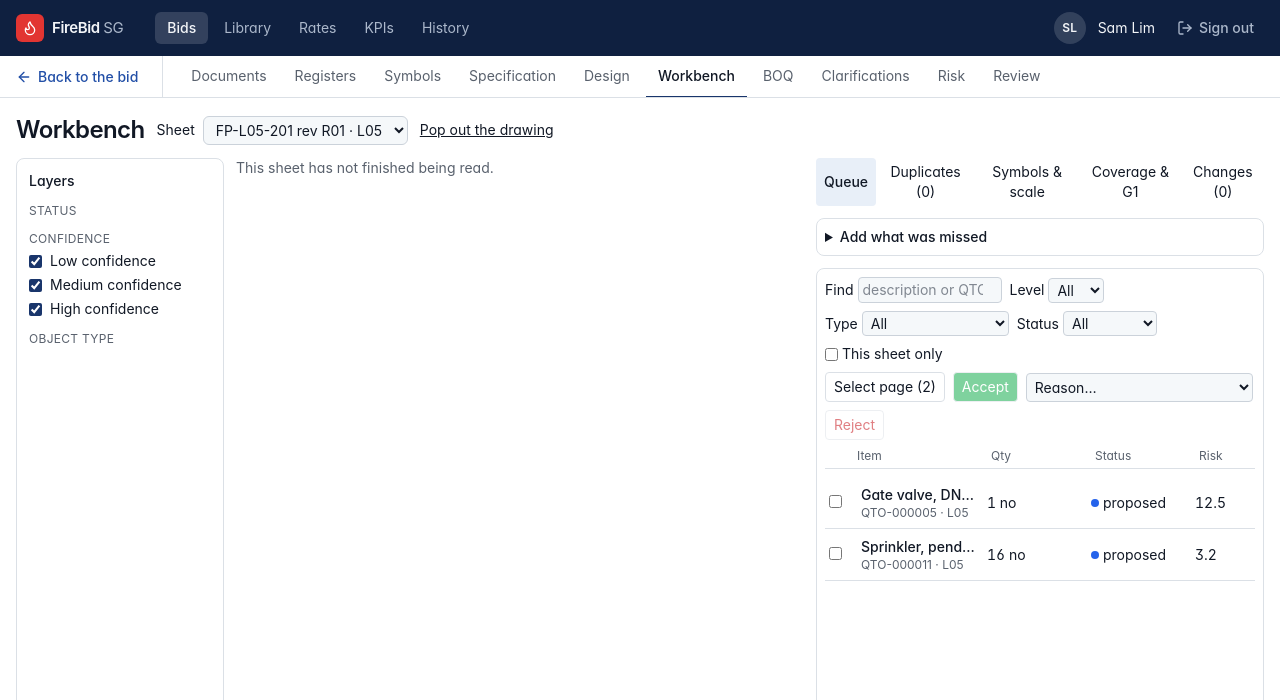
Test: the workbench › keeps G1 disabled and lists every blocker, with where to resolve it
Click the button "Coverage & G1".
click(1130, 182)  # box x1=1083 y1=158 x2=1178 y2=206
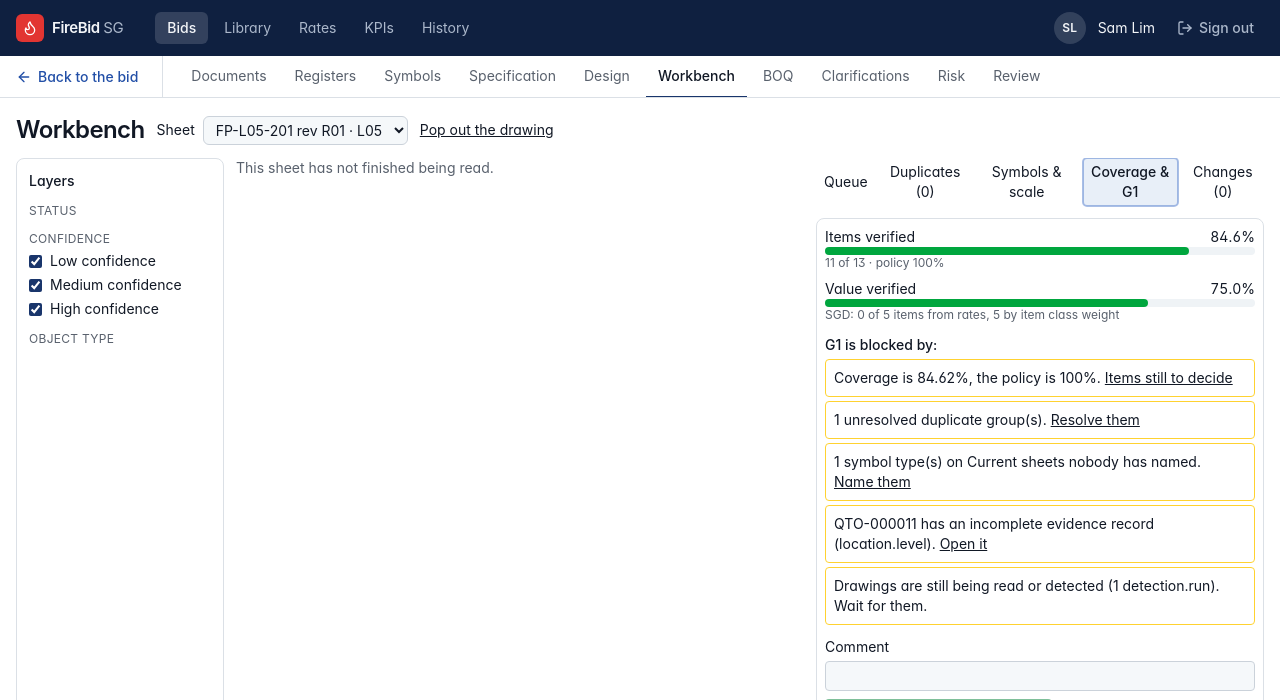
Click the button "Resolve them".
click(1095, 420)  # box x1=1051 y1=410 x2=1140 y2=430
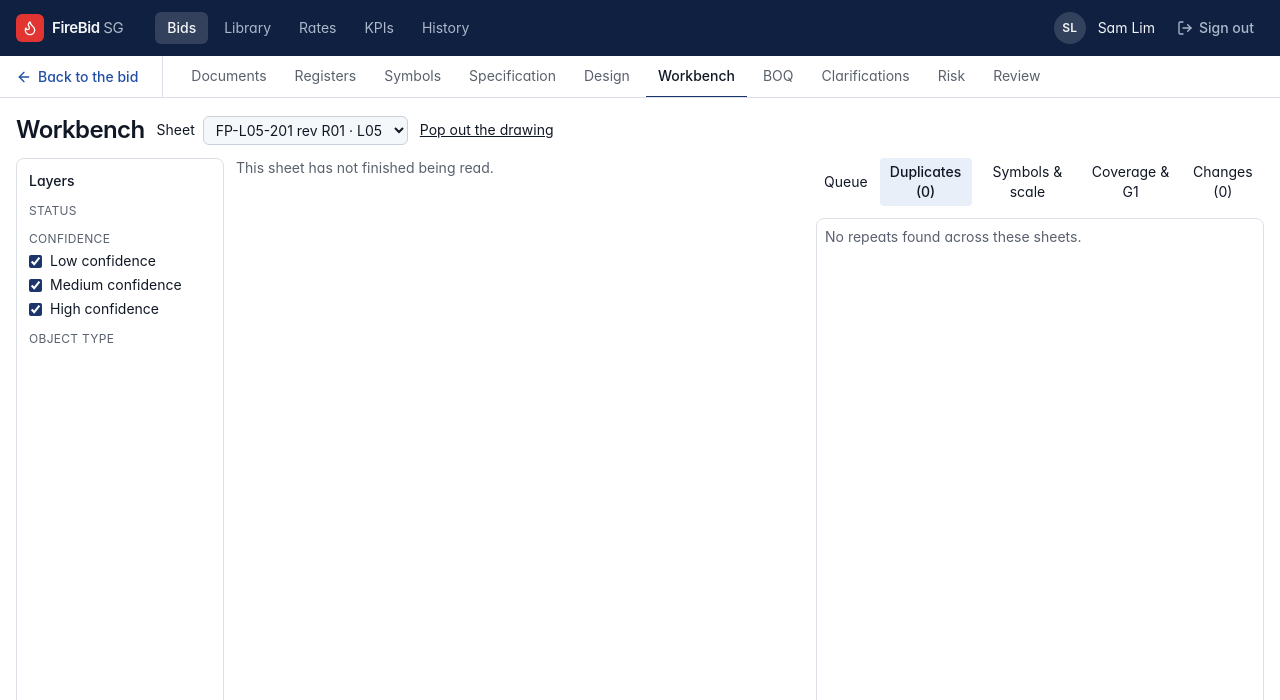
Check: the text "No repeats found across these sheets." is shown, box x1=825 y1=228 x2=1082 y2=245
